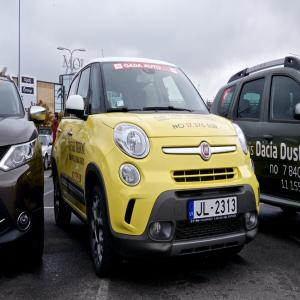Vehicle-registration-plate: (184, 194, 246, 237)
